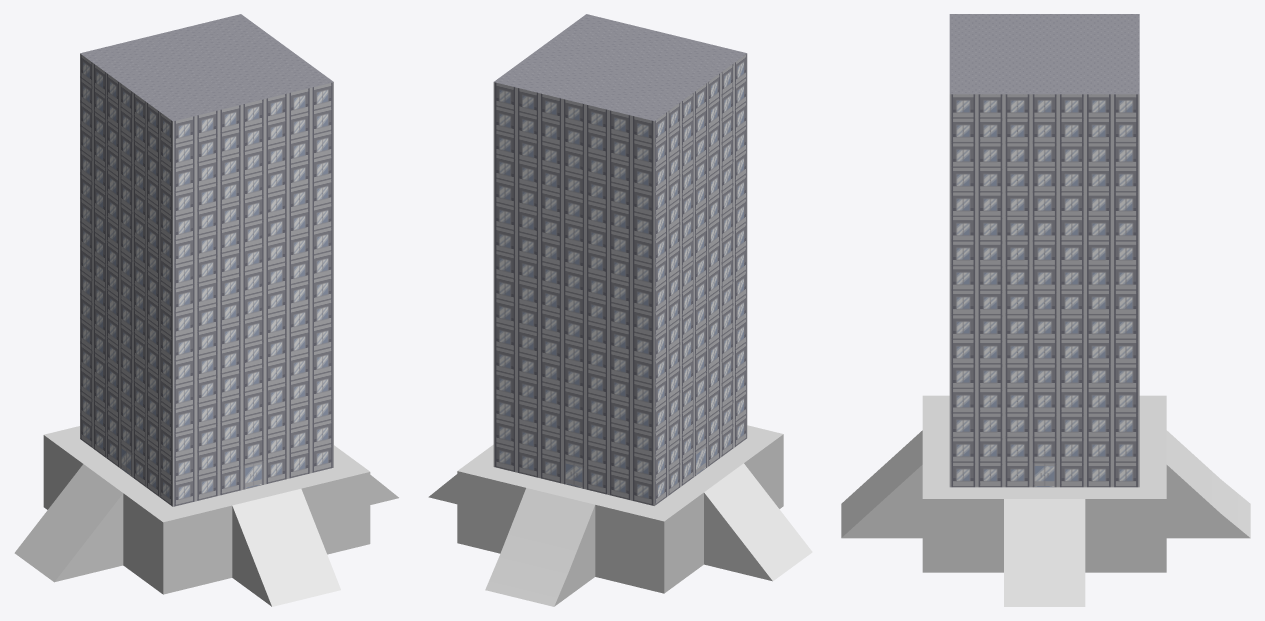
Rendered from Apartment.fbx.
3 renders of one model, left to right at view 1: azimuth 30°, elevation 25°; view 2: azimuth 150°, elevation 25°; view 3: azimuth 270°, elevation 25°, orthographic. The views are drawn at different scales.
Parts seen in each view (by area): view 1: Apartment001, Building_Slops001; view 2: Apartment001, Building_Slops001; view 3: Apartment001, Building_Slops001.
Part boxes in pixels (x1,y1,x2,y2): Apartment001: [80, 14, 333, 506]; Building_Slops001: [14, 426, 398, 606]; Apartment001: [493, 14, 747, 505]; Building_Slops001: [428, 425, 812, 606]; Apartment001: [949, 14, 1139, 487]; Building_Slops001: [841, 395, 1250, 606].
Size of the model in its own units: 3000 by 3800 by 3020.
